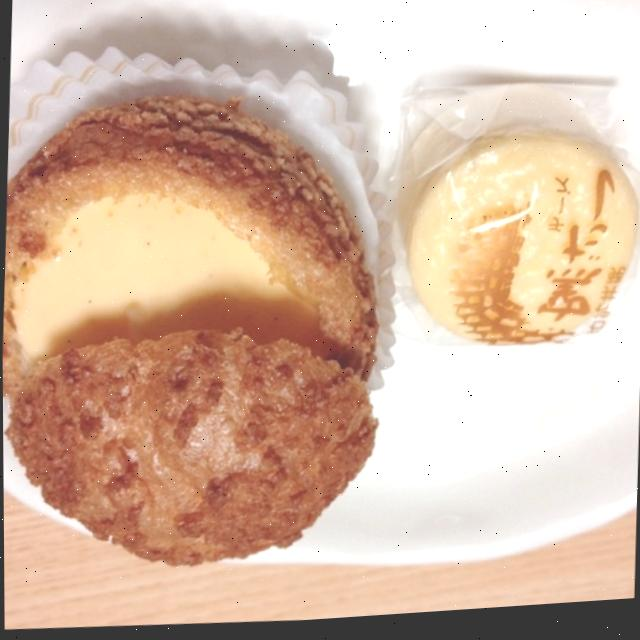炸货点心: (0, 51, 388, 584)
蛋糕甜品: (0, 51, 388, 584)
